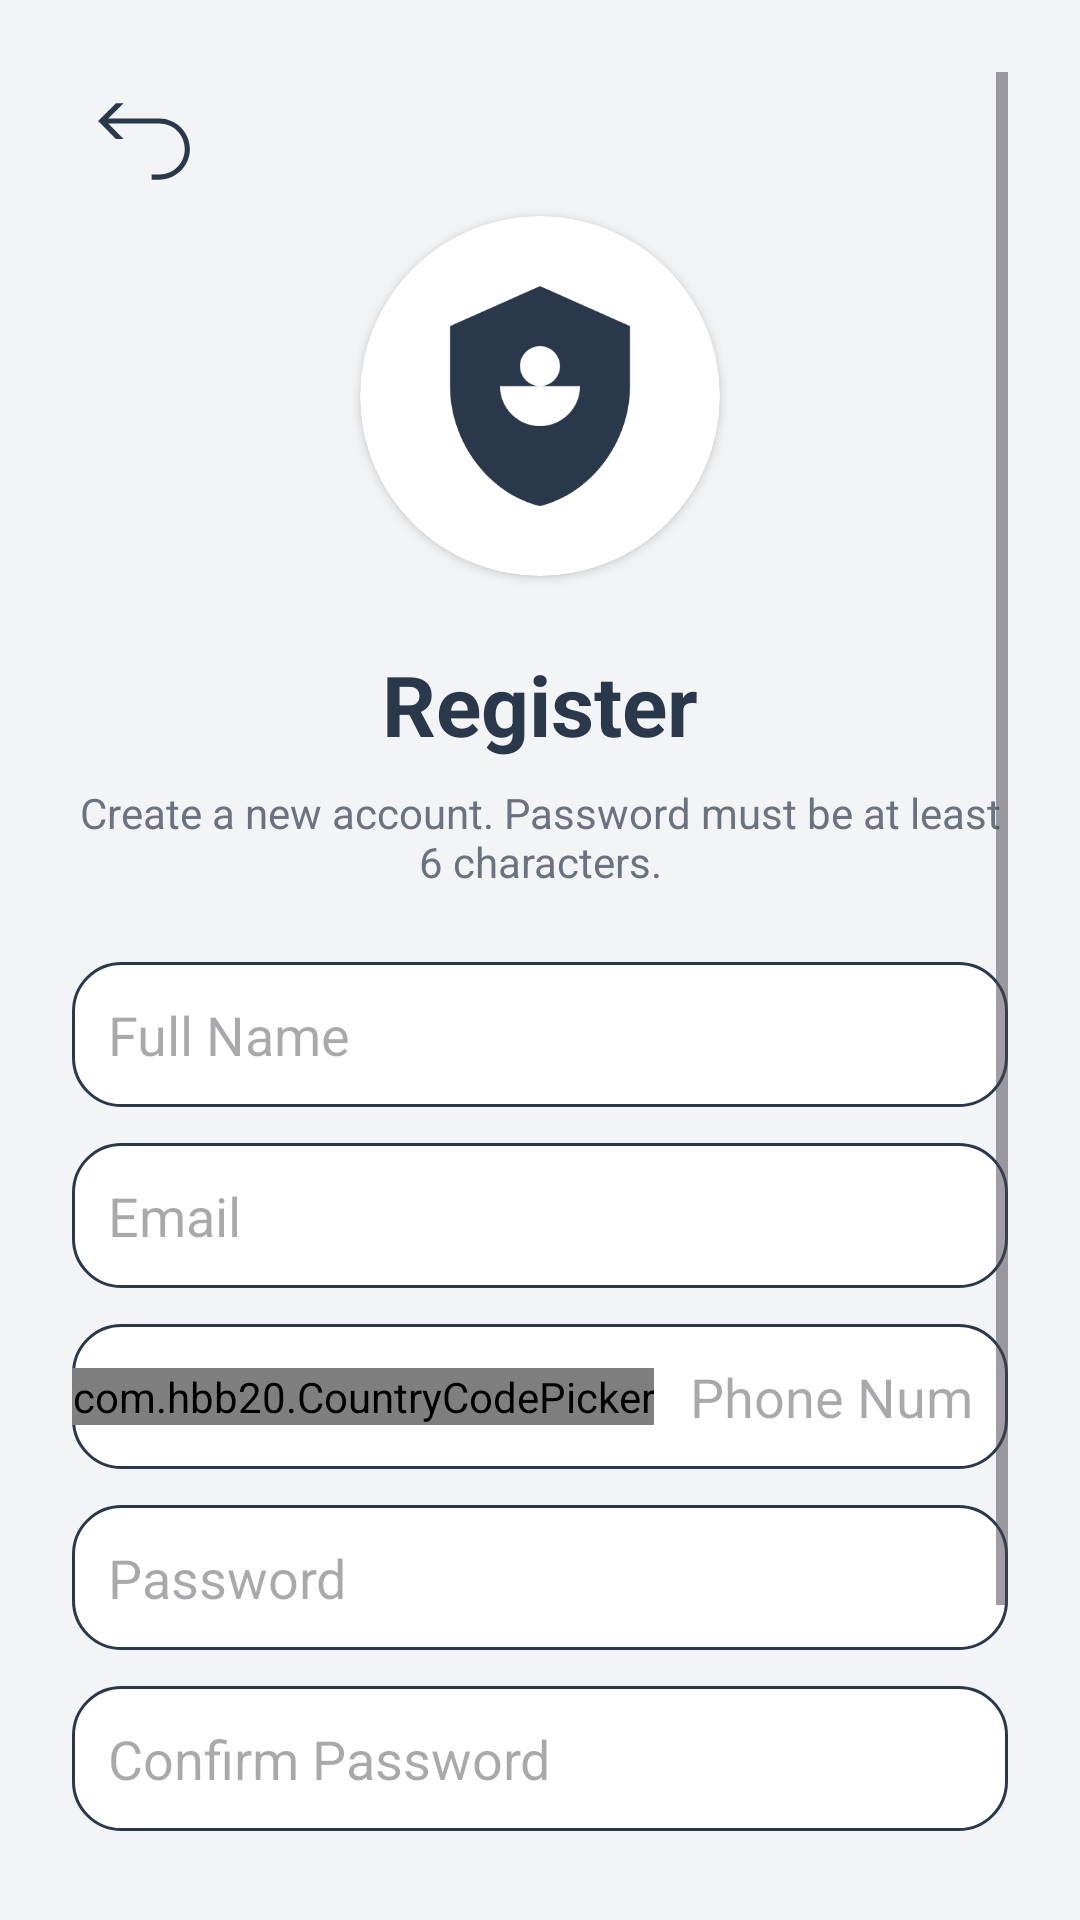

Locate icon controls on the screen. Image size 1080 x 1920, boxes as (x1, y1, x2, y2).
Back to landing page: (98, 103, 190, 180)
